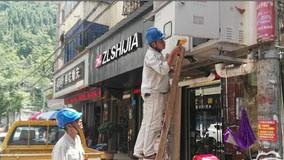blue: (55, 108, 83, 136), (144, 27, 167, 50)
